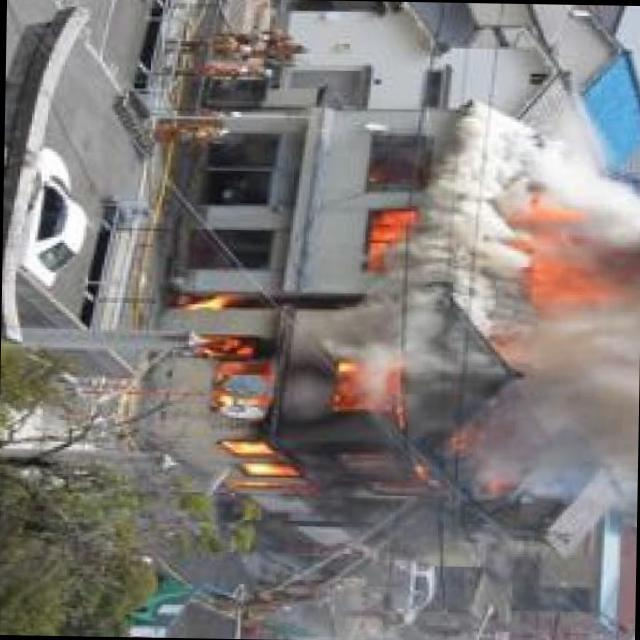Fire: (179, 294, 504, 503), (509, 198, 621, 320), (354, 205, 427, 272)
